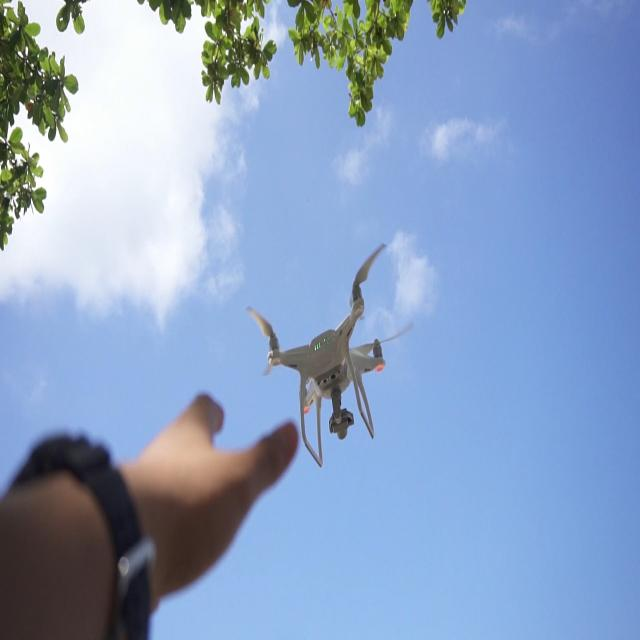Drone: (264, 286, 384, 470)
